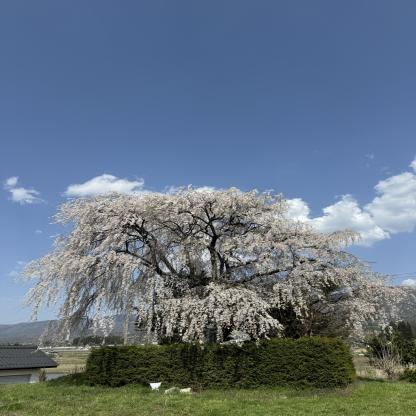ShidareZakura: (7, 181, 416, 352)
